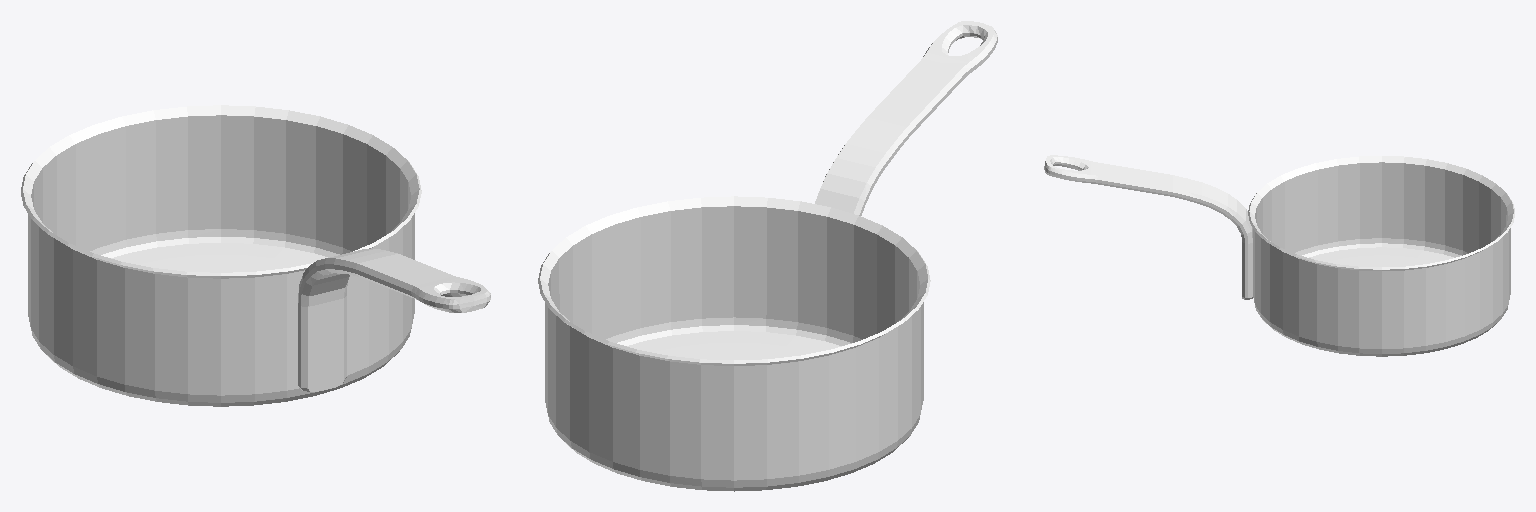
URDF robot description (frying_pan):
<?xml version="1.0" ?>
    <robot name="frying_pan">
    <link name="base">
        <inertial>
            <origin rpy="0 0 0" xyz="0 0 0"/>
            <mass value="1.0"/>
            <inertia ixx="1" ixy="0" ixz="0" iyy="1" iyz="0" izz="1"/>
        </inertial>
    <visual>
        <origin rpy="0 0 0" xyz="0 0 0"/>
        <geometry>
        <mesh filename="./meshes/frying_pan.obj" scale="1 1 1"/>
        </geometry>
        <material name="white">
        <color rgba="1 1 1 1"/>
        </material>
    </visual>
    <collision>
        <origin rpy="0 0 0" xyz="0 0 0"/>
        <geometry>
        <mesh filename="./meshes/frying_pan_vhacd.obj" scale="1 1 1"/>
        </geometry>
    </collision>
    </link>
    <link name="grasp">
        <inertial>
        <origin rpy="0 0 0" xyz="0 0 0"/>
        <mass value="0.0"/>
        <inertia ixx="1" ixy="0" ixz="0" iyy="1" iyz="0" izz="1"/>
        </inertial>
    </link>
    <joint name="base__grasp" type="fixed">
        <origin xyz="0.0 -0.15 0.08" rpy="0.0 0.0 0.0"/>
        <parent link="base"/>
        <child link="grasp"/>
    </joint>
    </robot>

--- Facts derived from the render (not from the file) ---
3 views of the same robot in one strip: view 1: azimuth 30°, elevation 25°; view 2: azimuth 150°, elevation 25°; view 3: azimuth 270°, elevation 25° (orthographic).
Model frying_pan with 2 links and 1 joints (1 fixed), rooted at base, posed every joint at zero.
Links seen in each view (by area): view 1: base; view 2: base; view 3: base.
Boxes of the visible links, bbox=[...] form: base: bbox=[21, 105, 490, 406]; base: bbox=[538, 21, 997, 491]; base: bbox=[1044, 155, 1514, 356].
Bounding box of the posed robot: 0.1661 × 0.2923 × 0.0986 m (x, y, z).
1 mesh visuals loaded from 1 distinct referenced files (1 OBJ).